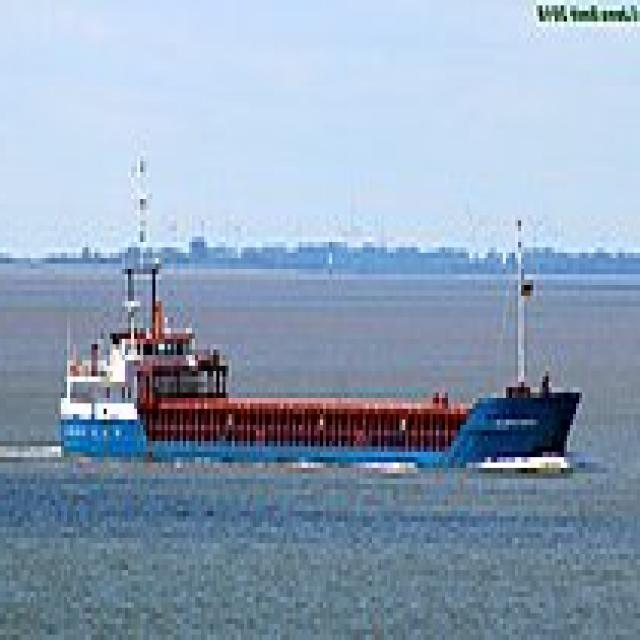Cargo: (61, 151, 591, 473)
